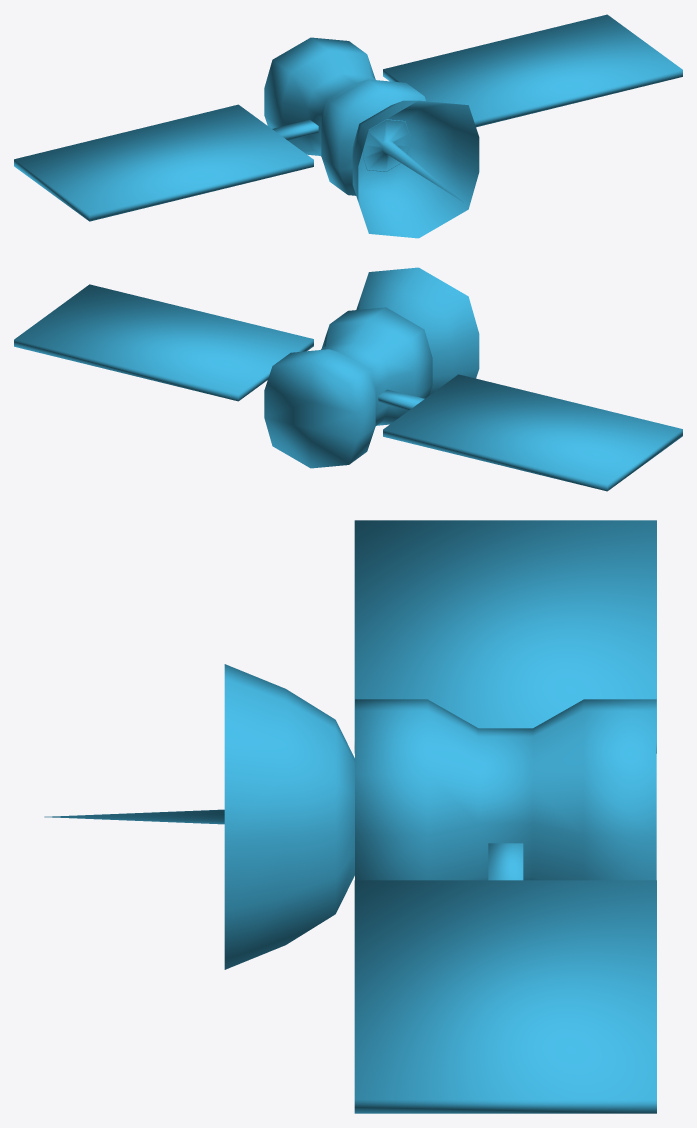
Rendered from Satellite.glb.
3 renders of one model, top to bottom at view 1: azimuth 30°, elevation 25°; view 2: azimuth 150°, elevation 25°; view 3: azimuth 270°, elevation 25°, orthographic. The views are drawn at different scales.
Visible parts, largest first — view 1: Satellite; view 2: Satellite; view 3: Satellite.
Boxes of the visible parts, x1,y1,x2,y2 form: Satellite: (14, 14, 682, 238); Satellite: (14, 267, 682, 491); Satellite: (44, 520, 656, 1113).
Bounding box in the file's own units: 1.72 × 0.3822 × 0.7745.
